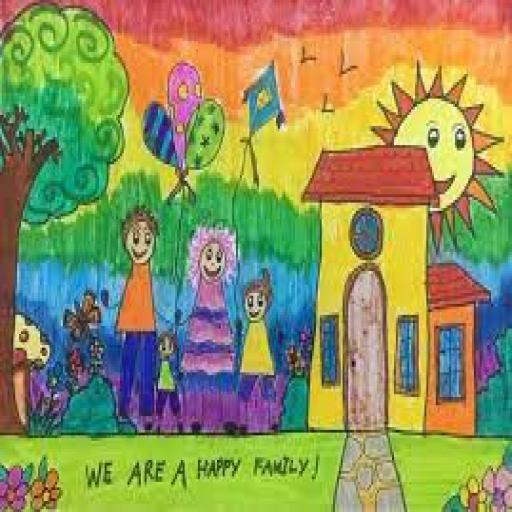person: (94, 207, 159, 438), (176, 220, 240, 435), (231, 261, 286, 427), (144, 327, 184, 426)
